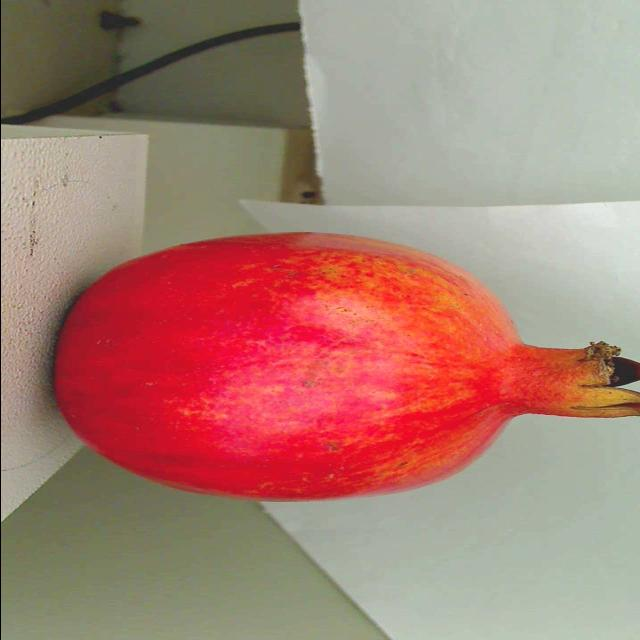pomegranate: (27, 225, 640, 520)
